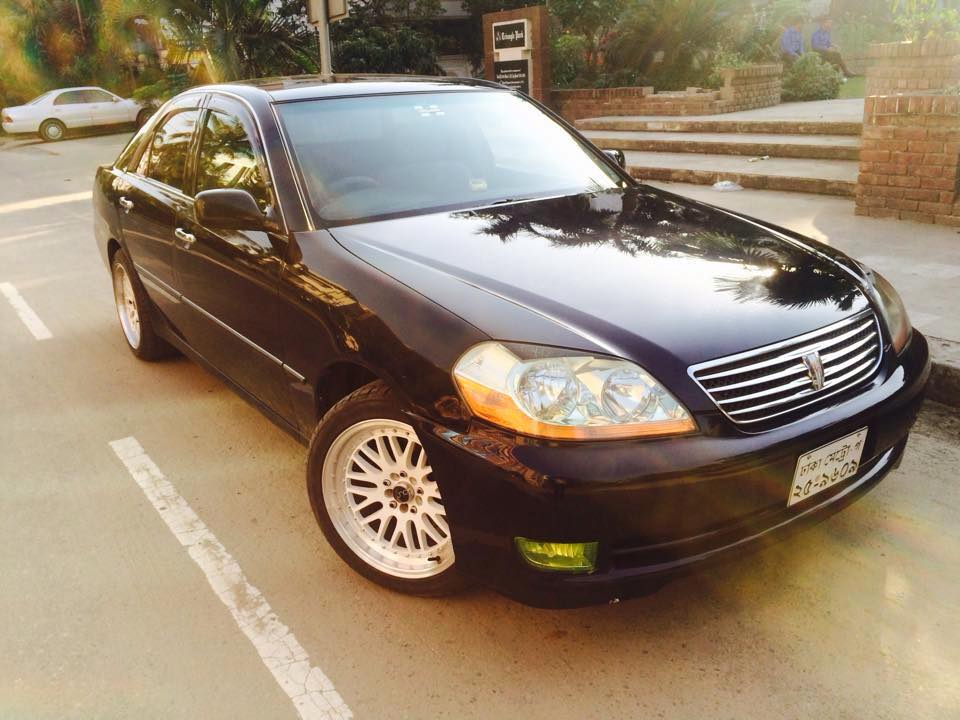registration_plate: (786, 425, 869, 508)
